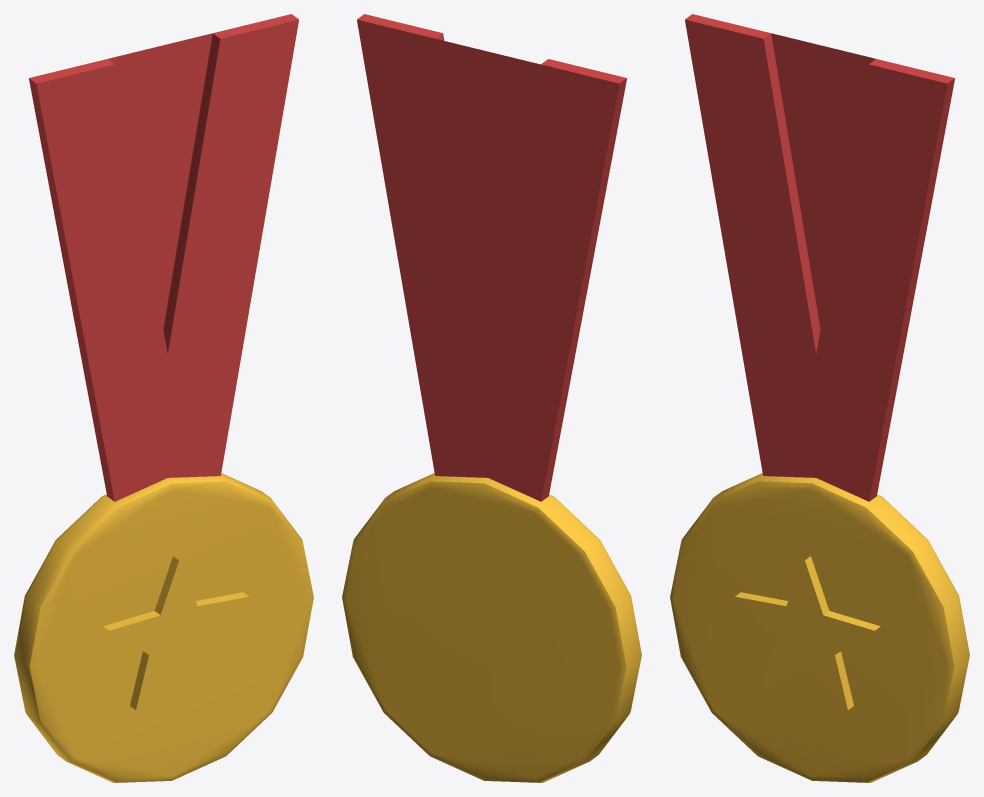
The model's file is GoldMedal.fbx.
3 renders of one model, left to right at view 1: azimuth 30°, elevation 25°; view 2: azimuth 150°, elevation 25°; view 3: azimuth 330°, elevation 25°, orthographic.
Parts seen in each view (by area): view 1: GoldMedal; view 2: GoldMedal; view 3: GoldMedal.
Boxes of the visible parts, left/top/right/bottom form: GoldMedal: left=14, top=14, right=313, bottom=782; GoldMedal: left=342, top=14, right=641, bottom=782; GoldMedal: left=670, top=14, right=969, bottom=782.
Bounding box in the file's own units: 1.1 × 2.65 × 0.16.
Materials: 1 (1 with a texture image).
